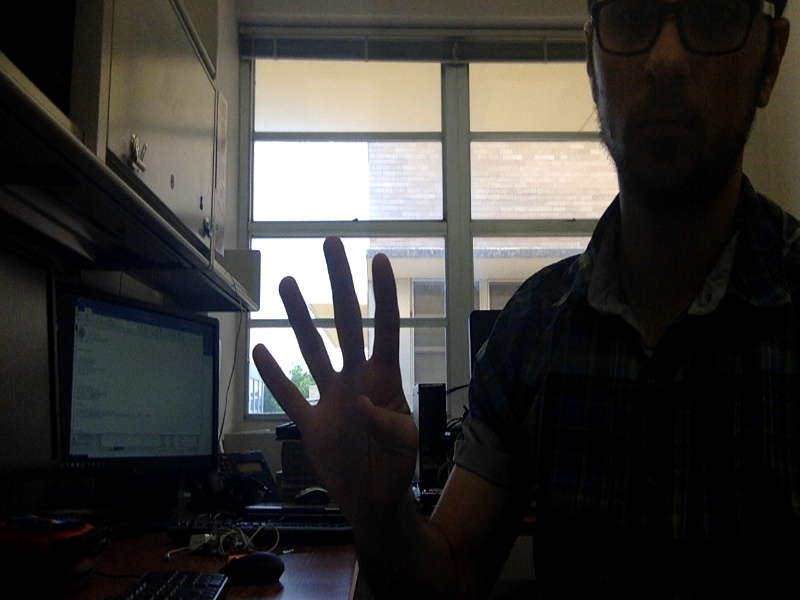4-hand: (250, 238, 426, 514)
